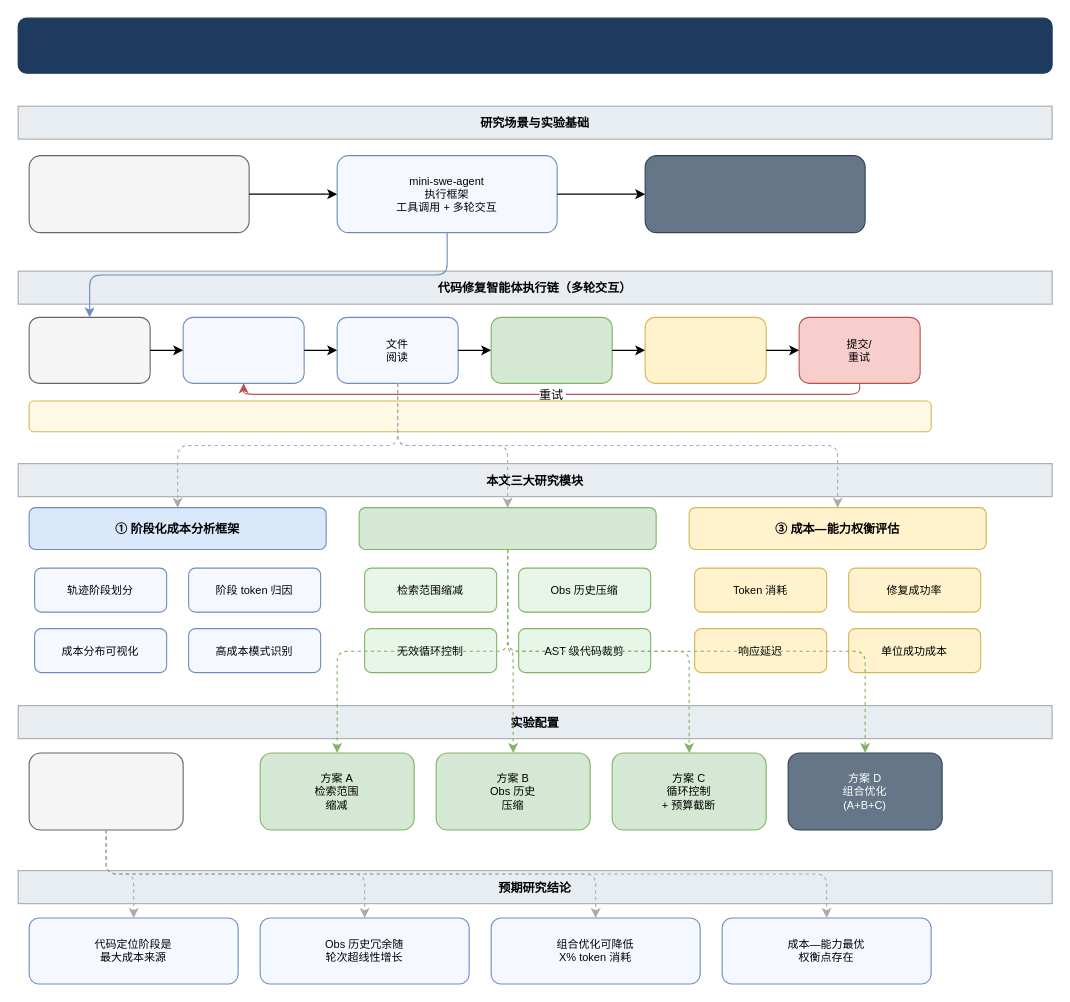
This 1070x1002 diagram has some shape labels left out. Here are the shapes that lost their labels. From the top down, the centre of each, then its label:
At pixel 534 45: "代码修复智能体推理成本分析与优化".
At pixel 138 194: "SWE-bench 2294 个真实 GitHub Issue 12 个 Python 仓库".
At pixel 754 194: "LLM 后端 (Claude / GPT-4 等) 按 token 计费".
At pixel 89 349: "Issue 理解".
At pixel 243 349: "代码 搜索".
At pixel 551 349: "补丁 生成".
At pixel 705 349: "测试 验证".
At pixel 479 416: "← 每轮 token 累积：输入历史 + 工具输出 + 模型输出 →".
At pixel 507 528: "② 上下文压缩与成本优化".
At pixel 105 791: "基线系统 mini-swe-agent (无优化)".
